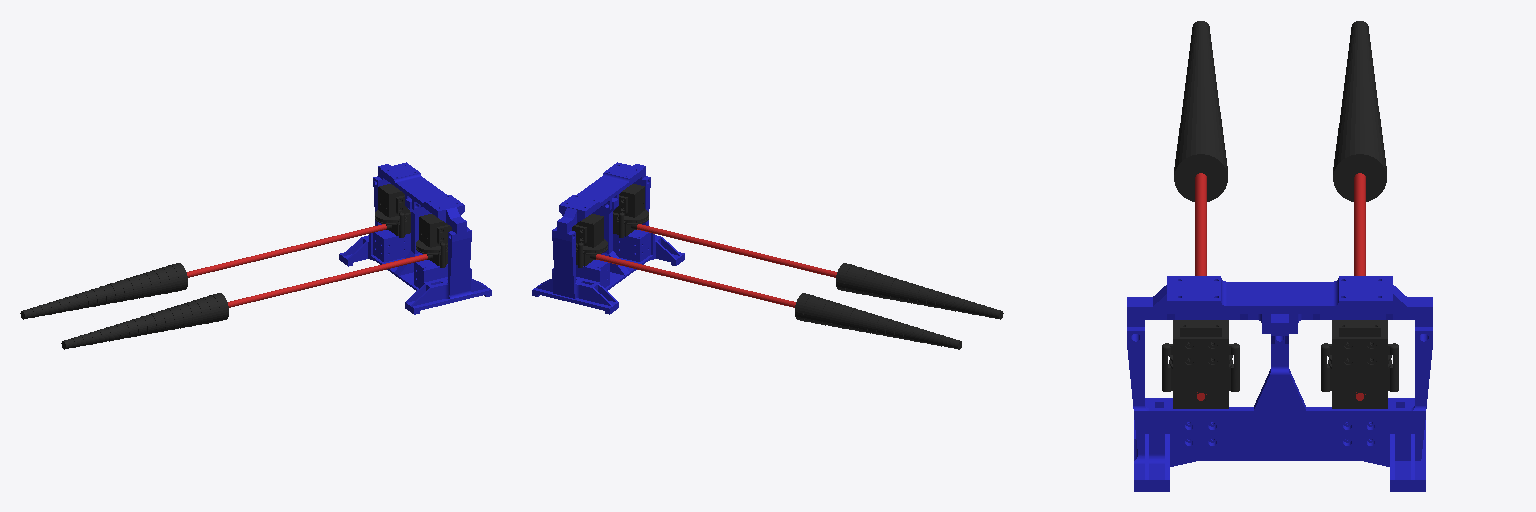
--- Render facts (derived) ---
Views: 3 orthographic renders of the robot side by side, from view 1: azimuth 30°, elevation 25°; view 2: azimuth 150°, elevation 25°; view 3: azimuth 270°, elevation 25°.
Model holybroX500 with 42 links and 41 joints (39 revolute, 2 fixed), rooted at base_link, posed every joint at zero.
Links seen in each view (by area): view 1: fixed_base, rotating_link_right, rotating_link_left, rod_link_right, rod_link_left; view 2: fixed_base, rotating_link_left, rotating_link_right, rod_link_left, rod_link_right; view 3: fixed_base, rotating_link_left, rotating_link_right, flexible_link_right_1, flexible_link_left_1, rod_link_left, rod_link_right.
Boxes of the visible links, x1,y1,x2,y2 form: fixed_base: (339,162,491,314); rotating_link_right: (375,184,410,237); rotating_link_left: (416,214,451,267); rod_link_right: (187,224,386,277); rod_link_left: (228,254,427,307); fixed_base: (532,162,684,314); rotating_link_left: (613,184,648,237); rotating_link_right: (572,214,607,267); rod_link_left: (637,224,836,277); rod_link_right: (596,254,795,307); fixed_base: (1127,276,1432,491); rotating_link_left: (1162,320,1239,408); rotating_link_right: (1321,320,1398,408); flexible_link_right_1: (1333,146,1386,201); flexible_link_left_1: (1174,146,1227,201); rod_link_left: (1195,173,1206,400); rod_link_right: (1354,173,1365,400).
Size in the robot's own frame: 0.6244 by 0.208 by 0.1297 metres.
Meshes: 3 distinct files referenced, 3 mesh visuals loaded (2 binary STL); not drawn: 1 (file found but could not be loaded).

The robot description file, URDF, robot "holybroX500":
<?xml version="1.0" ?>
<!-- =================================================================================== -->
<!-- |    This document was autogenerated by xacro from holybro.xacro                  | -->
<!-- |    EDITING THIS FILE BY HAND IS NOT RECOMMENDED                                 | -->
<!-- =================================================================================== -->
<robot name="holybroX500">
  <link name="rotating_link_left">
    <inertial>
      <mass value="0.1"/>
      <inertia ixx="4.322708e-05" ixy="0" ixz="0" iyy="3.75604e-05" iyz="0" izz="3.03708e-05"/>
    </inertial>
    <collision>
      <geometry>
        <box size="0.0385 0.0465 0.055"/>
      </geometry>
    </collision>
    <visual>
      <geometry>
        <mesh filename="meshes\ArmToLimb.stl"/>
      </geometry>
      <material name="darkgray">
        <color rgba="0.2 0.2 0.2 1"/>
      </material>
    </visual>
  </link>
  <link name="rod_link_left">
    <inertial>
      <origin rpy="0 0 0" xyz="0 0 -0.175"/>
      <mass value="0.01"/>
      <inertia ixx="0.00010212333333333332" ixy="0.0" ixz="0.0" iyy="0.00010212333333333332" iyz="0.0" izz="8e-08"/>
    </inertial>
    <collision>
      <origin rpy="0 0 0" xyz="0 0 -0.175"/>
      <geometry>
        <cylinder length="0.35" radius="0.004"/>
      </geometry>
    </collision>
    <visual>
      <origin rpy="0 0 0" xyz="0 0 -0.175"/>
      <geometry>
        <cylinder length="0.35" radius="0.004"/>
      </geometry>
      <material name="darkred">
        <color rgba="0.8 0.2 0.2 1"/>
      </material>
    </visual>
  </link>
  <joint name="servo_move_left" type="revolute">
    <parent link="fixed_base"/>
    <child link="rotating_link_left"/>
    <origin rpy="0 0 1.5708" xyz="0.0 0.054 -0.084"/>
    <axis xyz="0 0 1"/>
    <limit effort="1000.0" lower="-1.57" upper="1.57" velocity="0.5"/>
    <dynamics damping="0.1" friction="0"/>
  </joint>
  <joint name="rod_joint_left" type="fixed">
    <parent link="rotating_link_left"/>
    <child link="rod_link_left"/>
    <origin rpy="-1.5708 0 0" xyz="0.0 0.015 0.01"/>
    <axis xyz="1 0 0"/>
    <limit effort="1000.0" lower="0.0" upper="0.0" velocity="0.5"/>
    <dynamics damping="0.1" friction="0"/>
  </joint>
  <link name="rotating_link_right">
    <inertial>
      <mass value="0.1"/>
      <inertia ixx="4.322708e-05" ixy="0" ixz="0" iyy="3.75604e-05" iyz="0" izz="3.03708e-05"/>
    </inertial>
    <collision>
      <geometry>
        <box size="0.0385 0.0465 0.055"/>
      </geometry>
    </collision>
    <visual>
      <geometry>
        <mesh filename="meshes\ArmToLimb.stl"/>
      </geometry>
      <material name="darkgray">
        <color rgba="0.2 0.2 0.2 1"/>
      </material>
    </visual>
  </link>
  <link name="rod_link_right">
    <inertial>
      <origin rpy="0 0 0" xyz="0 0 -0.175"/>
      <mass value="0.01"/>
      <inertia ixx="0.00010212333333333332" ixy="0.0" ixz="0.0" iyy="0.00010212333333333332" iyz="0.0" izz="8e-08"/>
    </inertial>
    <collision>
      <origin rpy="0 0 0" xyz="0 0 -0.175"/>
      <geometry>
        <cylinder length="0.35" radius="0.004"/>
      </geometry>
    </collision>
    <visual>
      <origin rpy="0 0 0" xyz="0 0 -0.175"/>
      <geometry>
        <cylinder length="0.35" radius="0.004"/>
      </geometry>
      <material name="darkred">
        <color rgba="0.8 0.2 0.2 1"/>
      </material>
    </visual>
  </link>
  <joint name="servo_move_right" type="revolute">
    <parent link="fixed_base"/>
    <child link="rotating_link_right"/>
    <origin rpy="0 0 1.5708" xyz="0.0 -0.054 -0.084"/>
    <axis xyz="0 0 1"/>
    <limit effort="1000.0" lower="-1.57" upper="1.57" velocity="0.5"/>
    <dynamics damping="0.1" friction="0"/>
  </joint>
  <joint name="rod_joint_right" type="fixed">
    <parent link="rotating_link_right"/>
    <child link="rod_link_right"/>
    <origin rpy="-1.5708 0 0" xyz="0.0 0.015 0.01"/>
    <axis xyz="1 0 0"/>
    <limit effort="1000.0" lower="0.0" upper="0.0" velocity="0.5"/>
    <dynamics damping="0.1" friction="0"/>
  </joint>
  <link name="flexible_link_right_1">
    <inertial>
      <mass value="0.0058823529411764705"/>
      <origin rpy="-1.5707963267948966 0 0" xyz="0 0.0066972222222222225 0"/>
      <inertia ixx="6.18828991164367e-07" ixy="0.0" ixz="0.0" iyy="6.18828991164367e-07" iyz="0.0" izz="1.0617647058823529e-06"/>
    </inertial>
    <collision>
      <origin rpy="-1.5707963267948966 0 0" xyz="0 0.0066972222222222225 0"/>
      <geometry>
        <cylinder length="0.013394444444444445" radius="0.018277777777777778"/>
      </geometry>
    </collision>
    <visual>
      <origin rpy="-1.5707963267948966 0 0" xyz="0 0.0066972222222222225 0"/>
      <geometry>
        <cylinder length="0.013394444444444445" radius="0.018277777777777778"/>
      </geometry>
      <material name="darkgray">
        <color rgba="0.2 0.2 0.2 1"/>
      </material>
    </visual>
  </link>
  <link name="flexible_link_right_18">
    <inertial>
      <mass value="0.0058823529411764705"/>
      <origin rpy="-1.5707963267948966 0 0" xyz="0 0.0066972222222222225 0"/>
      <inertia ixx="1.4088781469377874e-07" ixy="0.0" ixz="0.0" iyy="1.4088781469377874e-07" iyz="0.0" izz="1.0588235294117647e-07"/>
    </inertial>
    <collision>
      <origin rpy="-1.5707963267948966 0 0" xyz="0 0.0066972222222222225 0"/>
      <geometry>
        <cylinder length="0.013394444444444445" radius="0.006"/>
      </geometry>
    </collision>
    <visual>
      <origin rpy="-1.5707963267948966 0 0" xyz="0 0.0066972222222222225 0"/>
      <geometry>
        <cylinder length="0.013394444444444445" radius="0.006"/>
      </geometry>
      <material name="darkgray">
        <color rgba="0.2 0.2 0.2 1"/>
      </material>
    </visual>
  </link>
  <gazebo reference="flex_joint_right_from_17_to_18">
    <implicitSpringDamper>0</implicitSpringDamper>
    <springReference>0</springReference>
    <springStiffness>0.5</springStiffness>
  </gazebo>
  <joint name="flex_joint_right_from_17_to_18" type="revolute">
    <parent link="flexible_link_right_17"/>
    <child link="flexible_link_right_18"/>
    <origin rpy="0 0 0" xyz="0 0.013394444444444445 0"/>
    <axis xyz="0 0 1"/>
    <limit effort="1000.0" lower="-1e+16" upper="1e+16" velocity="0.5"/>
    <dynamics damping="0.1" friction="0"/>
  </joint>
  <link name="flexible_link_right_17">
    <inertial>
      <mass value="0.0058823529411764705"/>
      <origin rpy="-1.5707963267948966 0 0" xyz="0 0.0066972222222222225 0"/>
      <inertia ixx="1.54399978818688e-07" ixy="0.0" ixz="0.0" iyy="1.54399978818688e-07" iyz="0.0" izz="1.3290668119099497e-07"/>
    </inertial>
    <collision>
      <origin rpy="-1.5707963267948966 0 0" xyz="0 0.0066972222222222225 0"/>
      <geometry>
        <cylinder length="0.013394444444444445" radius="0.006722222222222223"/>
      </geometry>
    </collision>
    <visual>
      <origin rpy="-1.5707963267948966 0 0" xyz="0 0.0066972222222222225 0"/>
      <geometry>
        <cylinder length="0.013394444444444445" radius="0.006722222222222223"/>
      </geometry>
      <material name="darkgray">
        <color rgba="0.2 0.2 0.2 1"/>
      </material>
    </visual>
  </link>
  <gazebo reference="flex_joint_right_from_16_to_17">
    <implicitSpringDamper>0</implicitSpringDamper>
    <springReference>0</springReference>
    <springStiffness>0.5</springStiffness>
  </gazebo>
  <joint name="flex_joint_right_from_16_to_17" type="revolute">
    <parent link="flexible_link_right_16"/>
    <child link="flexible_link_right_17"/>
    <origin rpy="0 0 0" xyz="0 0.013394444444444445 0"/>
    <axis xyz="0 0 1"/>
    <limit effort="1000.0" lower="-1e+16" upper="1e+16" velocity="0.5"/>
    <dynamics damping="0.1" friction="0"/>
  </joint>
  <link name="flexible_link_right_16">
    <inertial>
      <mass value="0.0058823529411764705"/>
      <origin rpy="-1.5707963267948966 0 0" xyz="0 0.0066972222222222225 0"/>
      <inertia ixx="1.6944627511498426e-07" ixy="0.0" ixz="0.0" iyy="1.6944627511498426e-07" iyz="0.0" izz="1.629992737835875e-07"/>
    </inertial>
    <collision>
      <origin rpy="-1.5707963267948966 0 0" xyz="0 0.0066972222222222225 0"/>
      <geometry>
        <cylinder length="0.013394444444444445" radius="0.0074444444444444445"/>
      </geometry>
    </collision>
    <visual>
      <origin rpy="-1.5707963267948966 0 0" xyz="0 0.0066972222222222225 0"/>
      <geometry>
        <cylinder length="0.013394444444444445" radius="0.0074444444444444445"/>
      </geometry>
      <material name="darkgray">
        <color rgba="0.2 0.2 0.2 1"/>
      </material>
    </visual>
  </link>
  <gazebo reference="flex_joint_right_from_15_to_16">
    <implicitSpringDamper>0</implicitSpringDamper>
    <springReference>0</springReference>
    <springStiffness>0.5</springStiffness>
  </gazebo>
  <joint name="flex_joint_right_from_15_to_16" type="revolute">
    <parent link="flexible_link_right_15"/>
    <child link="flexible_link_right_16"/>
    <origin rpy="0 0 0" xyz="0 0.013394444444444445 0"/>
    <axis xyz="0 0 1"/>
    <limit effort="1000.0" lower="-1e+16" upper="1e+16" velocity="0.5"/>
    <dynamics damping="0.1" friction="0"/>
  </joint>
  <link name="flexible_link_right_15">
    <inertial>
      <mass value="0.0058823529411764705"/>
      <origin rpy="-1.5707963267948966 0 0" xyz="0 0.0066972222222222225 0"/>
      <inertia ixx="1.8602670358266762e-07" ixy="0.0" ixz="0.0" iyy="1.8602670358266762e-07" iyz="0.0" izz="1.961601307189542e-07"/>
    </inertial>
    <collision>
      <origin rpy="-1.5707963267948966 0 0" xyz="0 0.0066972222222222225 0"/>
      <geometry>
        <cylinder length="0.013394444444444445" radius="0.008166666666666666"/>
      </geometry>
    </collision>
    <visual>
      <origin rpy="-1.5707963267948966 0 0" xyz="0 0.0066972222222222225 0"/>
      <geometry>
        <cylinder length="0.013394444444444445" radius="0.008166666666666666"/>
      </geometry>
      <material name="darkgray">
        <color rgba="0.2 0.2 0.2 1"/>
      </material>
    </visual>
  </link>
  <gazebo reference="flex_joint_right_from_14_to_15">
    <implicitSpringDamper>0</implicitSpringDamper>
    <springReference>0</springReference>
    <springStiffness>0.5</springStiffness>
  </gazebo>
  <joint name="flex_joint_right_from_14_to_15" type="revolute">
    <parent link="flexible_link_right_14"/>
    <child link="flexible_link_right_15"/>
    <origin rpy="0 0 0" xyz="0 0.013394444444444445 0"/>
    <axis xyz="0 0 1"/>
    <limit effort="1000.0" lower="-1e+16" upper="1e+16" velocity="0.5"/>
    <dynamics damping="0.1" friction="0"/>
  </joint>
  <link name="flexible_link_right_14">
    <inertial>
      <mass value="0.0058823529411764705"/>
      <origin rpy="-1.5707963267948966 0 0" xyz="0 0.0066972222222222225 0"/>
      <inertia ixx="2.041412642217381e-07" ixy="0.0" ixz="0.0" iyy="2.041412642217381e-07" iyz="0.0" izz="2.3238925199709512e-07"/>
    </inertial>
    <collision>
      <origin rpy="-1.5707963267948966 0 0" xyz="0 0.0066972222222222225 0"/>
      <geometry>
        <cylinder length="0.013394444444444445" radius="0.008888888888888889"/>
      </geometry>
    </collision>
    <visual>
      <origin rpy="-1.5707963267948966 0 0" xyz="0 0.0066972222222222225 0"/>
      <geometry>
        <cylinder length="0.013394444444444445" radius="0.008888888888888889"/>
      </geometry>
      <material name="darkgray">
        <color rgba="0.2 0.2 0.2 1"/>
      </material>
    </visual>
  </link>
  <gazebo reference="flex_joint_right_from_13_to_14">
    <implicitSpringDamper>0</implicitSpringDamper>
    <springReference>0</springReference>
    <springStiffness>0.5</springStiffness>
  </gazebo>
  <joint name="flex_joint_right_from_13_to_14" type="revolute">
    <parent link="flexible_link_right_13"/>
    <child link="flexible_link_right_14"/>
    <origin rpy="0 0 0" xyz="0 0.013394444444444445 0"/>
    <axis xyz="0 0 1"/>
    <limit effort="1000.0" lower="-1e+16" upper="1e+16" velocity="0.5"/>
    <dynamics damping="0.1" friction="0"/>
  </joint>
  <link name="flexible_link_right_13">
    <inertial>
      <mass value="0.0058823529411764705"/>
      <origin rpy="-1.5707963267948966 0 0" xyz="0 0.0066972222222222225 0"/>
      <inertia ixx="2.2378995703219564e-07" ixy="0.0" ixz="0.0" iyy="2.2378995703219564e-07" iyz="0.0" izz="2.716866376180102e-07"/>
    </inertial>
    <collision>
      <origin rpy="-1.5707963267948966 0 0" xyz="0 0.0066972222222222225 0"/>
      <geometry>
        <cylinder length="0.013394444444444445" radius="0.009611111111111112"/>
      </geometry>
    </collision>
    <visual>
      <origin rpy="-1.5707963267948966 0 0" xyz="0 0.0066972222222222225 0"/>
      <geometry>
        <cylinder length="0.013394444444444445" radius="0.009611111111111112"/>
      </geometry>
      <material name="darkgray">
        <color rgba="0.2 0.2 0.2 1"/>
      </material>
    </visual>
  </link>
  <gazebo reference="flex_joint_right_from_12_to_13">
    <implicitSpringDamper>0</implicitSpringDamper>
    <springReference>0</springReference>
    <springStiffness>0.5</springStiffness>
  </gazebo>
  <joint name="flex_joint_right_from_12_to_13" type="revolute">
    <parent link="flexible_link_right_12"/>
    <child link="flexible_link_right_13"/>
    <origin rpy="0 0 0" xyz="0 0.013394444444444445 0"/>
    <axis xyz="0 0 1"/>
    <limit effort="1000.0" lower="-1e+16" upper="1e+16" velocity="0.5"/>
    <dynamics damping="0.1" friction="0"/>
  </joint>
  <link name="flexible_link_right_12">
    <inertial>
      <mass value="0.0058823529411764705"/>
      <origin rpy="-1.5707963267948966 0 0" xyz="0 0.0066972222222222225 0"/>
      <inertia ixx="2.449727820140402e-07" ixy="0.0" ixz="0.0" iyy="2.449727820140402e-07" iyz="0.0" izz="3.140522875816993e-07"/>
    </inertial>
    <collision>
      <origin rpy="-1.5707963267948966 0 0" xyz="0 0.0066972222222222225 0"/>
      <geometry>
        <cylinder length="0.013394444444444445" radius="0.010333333333333333"/>
      </geometry>
    </collision>
    <visual>
      <origin rpy="-1.5707963267948966 0 0" xyz="0 0.0066972222222222225 0"/>
      <geometry>
        <cylinder length="0.013394444444444445" radius="0.010333333333333333"/>
      </geometry>
      <material name="darkgray">
        <color rgba="0.2 0.2 0.2 1"/>
      </material>
    </visual>
  </link>
  <gazebo reference="flex_joint_right_from_11_to_12">
    <implicitSpringDamper>0</implicitSpringDamper>
    <springReference>0</springReference>
    <springStiffness>0.5</springStiffness>
  </gazebo>
  <joint name="flex_joint_right_from_11_to_12" type="revolute">
    <parent link="flexible_link_right_11"/>
    <child link="flexible_link_right_12"/>
    <origin rpy="0 0 0" xyz="0 0.013394444444444445 0"/>
    <axis xyz="0 0 1"/>
    <limit effort="1000.0" lower="-1e+16" upper="1e+16" velocity="0.5"/>
    <dynamics damping="0.1" friction="0"/>
  </joint>
  <link name="flexible_link_right_11">
    <inertial>
      <mass value="0.0058823529411764705"/>
      <origin rpy="-1.5707963267948966 0 0" xyz="0 0.0066972222222222225 0"/>
      <inertia ixx="2.676897391672718e-07" ixy="0.0" ixz="0.0" iyy="2.676897391672718e-07" iyz="0.0" izz="3.5948620188816257e-07"/>
    </inertial>
    <collision>
      <origin rpy="-1.5707963267948966 0 0" xyz="0 0.0066972222222222225 0"/>
      <geometry>
        <cylinder length="0.013394444444444445" radius="0.011055555555555555"/>
      </geometry>
    </collision>
    <visual>
      <origin rpy="-1.5707963267948966 0 0" xyz="0 0.0066972222222222225 0"/>
      <geometry>
        <cylinder length="0.013394444444444445" radius="0.011055555555555555"/>
      </geometry>
      <material name="darkgray">
        <color rgba="0.2 0.2 0.2 1"/>
      </material>
    </visual>
  </link>
  <gazebo reference="flex_joint_right_from_10_to_11">
    <implicitSpringDamper>0</implicitSpringDamper>
    <springReference>0</springReference>
    <springStiffness>0.5</springStiffness>
  </gazebo>
  <joint name="flex_joint_right_from_10_to_11" type="revolute">
    <parent link="flexible_link_right_10"/>
    <child link="flexible_link_right_11"/>
    <origin rpy="0 0 0" xyz="0 0.013394444444444445 0"/>
    <axis xyz="0 0 1"/>
    <limit effort="1000.0" lower="-1e+16" upper="1e+16" velocity="0.5"/>
    <dynamics damping="0.1" friction="0"/>
  </joint>
  <link name="flexible_link_right_10">
    <inertial>
      <mass value="0.0058823529411764705"/>
      <origin rpy="-1.5707963267948966 0 0" xyz="0 0.0066972222222222225 0"/>
      <inertia ixx="2.919408284918906e-07" ixy="0.0" ixz="0.0" iyy="2.919408284918906e-07" iyz="0.0" izz="4.0798838053740015e-07"/>
    </inertial>
    <collision>
      <origin rpy="-1.5707963267948966 0 0" xyz="0 0.0066972222222222225 0"/>
      <geometry>
        <cylinder length="0.013394444444444445" radius="0.011777777777777778"/>
      </geometry>
    </collision>
    <visual>
      <origin rpy="-1.5707963267948966 0 0" xyz="0 0.0066972222222222225 0"/>
      <geometry>
        <cylinder length="0.013394444444444445" radius="0.011777777777777778"/>
      </geometry>
      <material name="darkgray">
        <color rgba="0.2 0.2 0.2 1"/>
      </material>
    </visual>
  </link>
  <gazebo reference="flex_joint_right_from_9_to_10">
    <implicitSpringDamper>0</implicitSpringDamper>
    <springReference>0</springReference>
    <springStiffness>0.5</springStiffness>
  </gazebo>
  <joint name="flex_joint_right_from_9_to_10" type="revolute">
    <parent link="flexible_link_right_9"/>
    <child link="flexible_link_right_10"/>
    <origin rpy="0 0 0" xyz="0 0.013394444444444445 0"/>
    <axis xyz="0 0 1"/>
    <limit effort="1000.0" lower="-1e+16" upper="1e+16" velocity="0.5"/>
    <dynamics damping="0.1" friction="0"/>
  </joint>
  <link name="flexible_link_right_9">
    <inertial>
      <mass value="0.0058823529411764705"/>
      <origin rpy="-1.5707963267948966 0 0" xyz="0 0.0066972222222222225 0"/>
      <inertia ixx="3.177260499878964e-07" ixy="0.0" ixz="0.0" iyy="3.177260499878964e-07" iyz="0.0" izz="4.5955882352941183e-07"/>
    </inertial>
    <collision>
      <origin rpy="-1.5707963267948966 0 0" xyz="0 0.0066972222222222225 0"/>
      <geometry>
        <cylinder length="0.013394444444444445" radius="0.0125"/>
      </geometry>
    </collision>
    <visual>
      <origin rpy="-1.5707963267948966 0 0" xyz="0 0.0066972222222222225 0"/>
      <geometry>
        <cylinder length="0.013394444444444445" radius="0.0125"/>
      </geometry>
      <material name="darkgray">
        <color rgba="0.2 0.2 0.2 1"/>
      </material>
    </visual>
  </link>
  <gazebo reference="flex_joint_right_from_8_to_9">
    <implicitSpringDamper>0</implicitSpringDamper>
    <springReference>0</springReference>
    <springStiffness>0.5</springStiffness>
  </gazebo>
  <joint name="flex_joint_right_from_8_to_9" type="revolute">
    <parent link="flexible_link_right_8"/>
    <child link="flexible_link_right_9"/>
    <origin rpy="0 0 0" xyz="0 0.013394444444444445 0"/>
    <axis xyz="0 0 1"/>
    <limit effort="1000.0" lower="-1e+16" upper="1e+16" velocity="0.5"/>
    <dynamics damping="0.1" friction="0"/>
  </joint>
  <link name="flexible_link_right_8">
    <inertial>
      <mass value="0.0058823529411764705"/>
      <origin rpy="-1.5707963267948966 0 0" xyz="0 0.0066972222222222225 0"/>
      <inertia ixx="3.450454036552893e-07" ixy="0.0" ixz="0.0" iyy="3.450454036552893e-07" iyz="0.0" izz="5.141975308641976e-07"/>
    </inertial>
    <collision>
      <origin rpy="-1.5707963267948966 0 0" xyz="0 0.0066972222222222225 0"/>
      <geometry>
        <cylinder length="0.013394444444444445" radius="0.013222222222222222"/>
      </geometry>
    </collision>
    <visual>
      <origin rpy="-1.5707963267948966 0 0" xyz="0 0.0066972222222222225 0"/>
      <geometry>
        <cylinder length="0.013394444444444445" radius="0.013222222222222222"/>
      </geometry>
      <material name="darkgray">
        <color rgba="0.2 0.2 0.2 1"/>
      </material>
    </visual>
  </link>
  <gazebo reference="flex_joint_right_from_7_to_8">
    <implicitSpringDamper>0</implicitSpringDamper>
    <springReference>0</springReference>
    <springStiffness>0.5</springStiffness>
  </gazebo>
  <joint name="flex_joint_right_from_7_to_8" type="revolute">
    <parent link="flexible_link_right_7"/>
    <child link="flexible_link_right_8"/>
    <origin rpy="0 0 0" xyz="0 0.013394444444444445 0"/>
    <axis xyz="0 0 1"/>
    <limit effort="1000.0" lower="-1e+16" upper="1e+16" velocity="0.5"/>
    <dynamics damping="0.1" friction="0"/>
  </joint>
  <link name="flexible_link_right_7">
    <inertial>
      <mass value="0.0058823529411764705"/>
      <origin rpy="-1.5707963267948966 0 0" xyz="0 0.0066972222222222225 0"/>
      <inertia ixx="3.7389888949406916e-07" ixy="0.0" ixz="0.0" iyy="3.7389888949406916e-07" iyz="0.0" izz="5.719045025417573e-07"/>
    </inertial>
    <collision>
      <origin rpy="-1.5707963267948966 0 0" xyz="0 0.0066972222222222225 0"/>
      <geometry>
        <cylinder length="0.013394444444444445" radius="0.013944444444444443"/>
      </geometry>
    </collision>
    <visual>
      <origin rpy="-1.5707963267948966 0 0" xyz="0 0.0066972222222222225 0"/>
      <geometry>
        <cylinder length="0.013394444444444445" radius="0.013944444444444443"/>
      </geometry>
      <material name="darkgray">
        <color rgba="0.2 0.2 0.2 1"/>
      </material>
    </visual>
  </link>
  <gazebo reference="flex_joint_right_from_6_to_7">
    <implicitSpringDamper>0</implicitSpringDamper>
    <springReference>0</springReference>
    <springStiffness>0.5</springStiffness>
  </gazebo>
  <joint name="flex_joint_right_from_6_to_7" type="revolute">
    <parent link="flexible_link_right_6"/>
    <child link="flexible_link_right_7"/>
    <origin rpy="0 0 0" xyz="0 0.013394444444444445 0"/>
    <axis xyz="0 0 1"/>
    <limit effort="1000.0" lower="-1e+16" upper="1e+16" velocity="0.5"/>
    <dynamics damping="0.1" friction="0"/>
  </joint>
  <link name="flexible_link_right_6">
    <inertial>
      <mass value="0.0058823529411764705"/>
      <origin rpy="-1.5707963267948966 0 0" xyz="0 0.0066972222222222225 0"/>
      <inertia ixx="4.0428650750423624e-07" ixy="0.0" ixz="0.0" iyy="4.0428650750423624e-07" iyz="0.0" izz="6.326797385620915e-07"/>
    </inertial>
    <collision>
      <origin rpy="-1.5707963267948966 0 0" xyz="0 0.0066972222222222225 0"/>
      <geometry>
        <cylinder length="0.013394444444444445" radius="0.014666666666666666"/>
      </geometry>
    </collision>
    <visual>
      <origin rpy="-1.5707963267948966 0 0" xyz="0 0.0066972222222222225 0"/>
      <geometry>
        <cylinder length="0.013394444444444445" radius="0.014666666666666666"/>
      </geometry>
      <material name="darkgray">
        <color rgba="0.2 0.2 0.2 1"/>
      </material>
    </visual>
  </link>
  <gazebo reference="flex_joint_right_from_5_to_6">
    <implicitSpringDamper>0</implicitSpringDamper>
    <springReference>0</springReference>
    <springStiffness>0.5</springStiffness>
  </gazebo>
  <joint name="flex_joint_right_from_5_to_6" type="revolute">
    <parent link="flexible_link_right_5"/>
    <child link="flexible_link_right_6"/>
    <origin rpy="0 0 0" xyz="0 0.013394444444444445 0"/>
    <axis xyz="0 0 1"/>
    <limit effort="1000.0" lower="-1e+16" upper="1e+16" velocity="0.5"/>
    <dynamics damping="0.1" friction="0"/>
  </joint>
  <link name="flexible_link_right_5">
    <inertial>
      <mass value="0.0058823529411764705"/>
      <origin rpy="-1.5707963267948966 0 0" xyz="0 0.0066972222222222225 0"/>
      <inertia ixx="4.362082576857904e-07" ixy="0.0" ixz="0.0" iyy="4.362082576857904e-07" iyz="0.0" izz="6.965232389251998e-07"/>
    </inertial>
    <collision>
      <origin rpy="-1.5707963267948966 0 0" xyz="0 0.0066972222222222225 0"/>
      <geometry>
        <cylinder length="0.013394444444444445" radius="0.01538888888888889"/>
      </geometry>
    </collision>
    <visual>
      <origin rpy="-1.5707963267948966 0 0" xyz="0 0.0066972222222222225 0"/>
      <geometry>
        <cylinder length="0.013394444444444445" radius="0.01538888888888889"/>
      </geometry>
      <material name="darkgray">
        <color rgba="0.2 0.2 0.2 1"/>
      </material>
    </visual>
  </link>
  <gazebo reference="flex_joint_right_from_4_to_5">
    <implicitSpringDamper>0</implicitSpringDamper>
    <springReference>0</springReference>
    <springStiffness>0.5</springStiffness>
  </gazebo>
  <joint name="flex_joint_right_from_4_to_5" type="revolute">
    <parent link="flexible_link_right_4"/>
    <child link="flexible_link_right_5"/>
    <origin rpy="0 0 0" xyz="0 0.013394444444444445 0"/>
    <axis xyz="0 0 1"/>
    <limit effort="1000.0" lower="-1e+16" upper="1e+16" velocity="0.5"/>
    <dynamics damping="0.1" friction="0"/>
  </joint>
  <link name="flexible_link_right_4">
    <inertial>
      <mass value="0.0058823529411764705"/>
      <origin rpy="-1.5707963267948966 0 0" xyz="0 0.0066972222222222225 0"/>
      <inertia ixx="4.696641400387315e-07" ixy="0.0" ixz="0.0" iyy="4.696641400387315e-07" iyz="0.0" izz="7.63435003631082e-07"/>
    </inertial>
    <collision>
      <origin rpy="-1.5707963267948966 0 0" xyz="0 0.0066972222222222225 0"/>
      <geometry>
        <cylinder length="0.013394444444444445" radius="0.01611111111111111"/>
      </geometry>
    </collision>
    <visual>
      <origin rpy="-1.5707963267948966 0 0" xyz="0 0.0066972222222222225 0"/>
      <geometry>
        <cylinder length="0.013394444444444445" radius="0.01611111111111111"/>
      </geometry>
      <material name="darkgray">
        <color rgba="0.2 0.2 0.2 1"/>
      </material>
    </visual>
  </link>
  <gazebo reference="flex_joint_right_from_3_to_4">
    <implicitSpringDamper>0</implicitSpringDamper>
    <springReference>0</springReference>
    <springStiffness>0.5</springStiffness>
  </gazebo>
  <joint name="flex_joint_right_from_3_to_4" type="revolute">
    <parent link="flexible_link_right_3"/>
    <child link="flexible_link_right_4"/>
    <origin rpy="0 0 0" xyz="0 0.013394444444444445 0"/>
    <axis xyz="0 0 1"/>
    <limit effort="1000.0" lower="-1e+16" upper="1e+16" velocity="0.5"/>
    <dynamics damping="0.1" friction="0"/>
  </joint>
  <link name="flexible_link_right_3">
    <inertial>
      <mass value="0.0058823529411764705"/>
      <origin rpy="-1.5707963267948966 0 0" xyz="0 0.0066972222222222225 0"/>
      <inertia ixx="5.046541545630597e-07" ixy="0.0" ixz="0.0" iyy="5.046541545630597e-07" iyz="0.0" izz="8.334150326797384e-07"/>
    </inertial>
    <collision>
      <origin rpy="-1.5707963267948966 0 0" xyz="0 0.0066972222222222225 0"/>
      <geometry>
        <cylinder length="0.013394444444444445" radius="0.016833333333333332"/>
      </geometry>
    </collision>
    <visual>
      <origin rpy="-1.5707963267948966 0 0" xyz="0 0.0066972222222222225 0"/>
      <geometry>
        <cylinder length="0.013394444444444445" radius="0.016833333333333332"/>
      </geometry>
      <material name="darkgray">
        <color rgba="0.2 0.2 0.2 1"/>
      </material>
    </visual>
  </link>
  <gazebo reference="flex_joint_right_from_2_to_3">
    <implicitSpringDamper>0</implicitSpringDamper>
    <springReference>0</springReference>
    <springStiffness>0.5</springStiffness>
  </gazebo>
  <joint name="flex_joint_right_from_2_to_3" type="revolute">
    <parent link="flexible_link_right_2"/>
    <child link="flexible_link_right_3"/>
    <origin rpy="0 0 0" xyz="0 0.013394444444444445 0"/>
    <axis xyz="0 0 1"/>
    <limit effort="1000.0" lower="-1e+16" upper="1e+16" velocity="0.5"/>
    <dynamics damping="0.1" friction="0"/>
  </joint>
  <link name="flexible_link_right_2">
    <inertial>
      <mass value="0.0058823529411764705"/>
      <origin rpy="-1.5707963267948966 0 0" xyz="0 0.0066972222222222225 0"/>
      <inertia ixx="5.41178301258775e-07" ixy="0.0" ixz="0.0" iyy="5.41178301258775e-07" iyz="0.0" izz="9.06463326071169e-07"/>
    </inertial>
    <collision>
      <origin rpy="-1.5707963267948966 0 0" xyz="0 0.0066972222222222225 0"/>
      <geometry>
        <cylinder length="0.013394444444444445" radius="0.017555555555555553"/>
      </geometry>
    </collision>
    <visual>
      <origin rpy="-1.5707963267948966 0 0" xyz="0 0.0066972222222222225 0"/>
      <geometry>
        <cylinder length="0.013394444444444445" radius="0.017555555555555553"/>
      </geometry>
      <material name="darkgray">
        <color rgba="0.2 0.2 0.2 1"/>
      </material>
    </visual>
  </link>
  <gazebo reference="flex_joint_right_from_1_to_2">
    <implicitSpringDamper>0</implicitSpringDamper>
    <springReference>0</springReference>
    <springStiffness>0.5</springStiffness>
  </gazebo>
  <joint name="flex_joint_right_from_1_to_2" type="revolute">
    <parent link="flexible_link_right_1"/>
    <child link="flexible_link_right_2"/>
    <origin rpy="0 0 0" xyz="0 0.013394444444444445 0"/>
    <axis xyz="0 0 1"/>
    <limit effort="1000.0" lower="-1e+16" upper="1e+16" velocity="0.5"/>
    <dynamics damping="0.1" friction="0"/>
  </joint>
  <link name="flexible_link_left_1">
    <inertial>
      <mass value="0.0058823529411764705"/>
      <origin rpy="-1.5707963267948966 0 0" xyz="0 0.0066972222222222225 0"/>
      <inertia ixx="6.18828991164367e-07" ixy="0.0" ixz="0.0" iyy="6.18828991164367e-07" iyz="0.0" izz="1.0617647058823529e-06"/>
    </inertial>
    <collision>
      <origin rpy="-1.5707963267948966 0 0" xyz="0 0.0066972222222222225 0"/>
      <geometry>
        <cylinder length="0.013394444444444445" radius="0.018277777777777778"/>
      </geometry>
    </collision>
    <visual>
      <origin rpy="-1.5707963267948966 0 0" xyz="0 0.0066972222222222225 0"/>
      <geometry>
        <cylinder length="0.013394444444444445" radius="0.018277777777777778"/>
      </geometry>
      <material name="darkgray">
        <color rgba="0.2 0.2 0.2 1"/>
      </material>
    </visual>
  </link>
  <link name="flexible_link_left_18">
    <inertial>
      <mass value="0.0058823529411764705"/>
      <origin rpy="-1.5707963267948966 0 0" xyz="0 0.0066972222222222225 0"/>
      <inertia ixx="1.4088781469377874e-07" ixy="0.0" ixz="0.0" iyy="1.4088781469377874e-07" iyz="0.0" izz="1.0588235294117647e-07"/>
    </inertial>
    <collision>
      <origin rpy="-1.5707963267948966 0 0" xyz="0 0.0066972222222222225 0"/>
      <geometry>
        <cylinder length="0.013394444444444445" radius="0.006"/>
      </geometry>
    </collision>
    <visual>
      <origin rpy="-1.5707963267948966 0 0" xyz="0 0.0066972222222222225 0"/>
      <geometry>
        <cylinder length="0.013394444444444445" radius="0.006"/>
      </geometry>
      <material name="darkgray">
        <color rgba="0.2 0.2 0.2 1"/>
      </material>
    </visual>
  </link>
  <gazebo reference="flex_joint_left_from_17_to_18">
    <implicitSpringDamper>0</implicitSpringDamper>
    <springReference>0</springReference>
    <springStiffness>0.5</springStiffness>
  </gazebo>
  <joint name="flex_joint_left_from_17_to_18" type="revolute">
    <parent link="flexible_link_left_17"/>
    <child link="flexible_link_left_18"/>
    <origin rpy="0 0 0" xyz="0 0.013394444444444445 0"/>
    <axis xyz="0 0 1"/>
    <limit effort="1000.0" lower="-1e+16" upper="1e+16" velocity="0.5"/>
    <dynamics damping="0.1" friction="0"/>
  </joint>
  <link name="flexible_link_left_17">
    <inertial>
      <mass value="0.0058823529411764705"/>
      <origin rpy="-1.5707963267948966 0 0" xyz="0 0.0066972222222222225 0"/>
      <inertia ixx="1.54399978818688e-07" ixy="0.0" ixz="0.0" iyy="1.54399978818688e-07" iyz="0.0" izz="1.3290668119099497e-07"/>
    </inertial>
    <collision>
      <origin rpy="-1.5707963267948966 0 0" xyz="0 0.0066972222222222225 0"/>
      <geometry>
        <cylinder length="0.013394444444444445" radius="0.006722222222222223"/>
      </geometry>
    </collision>
    <visual>
      <origin rpy="-1.5707963267948966 0 0" xyz="0 0.0066972222222222225 0"/>
      <geometry>
        <cylinder length="0.013394444444444445" radius="0.006722222222222223"/>
      </geometry>
      <material name="darkgray">
        <color rgba="0.2 0.2 0.2 1"/>
      </material>
    </visual>
  </link>
  <gazebo reference="flex_joint_left_from_16_to_17">
    <implicitSpringDamper>0</implicitSpringDamper>
    <springReference>0</springReference>
    <springStiffness>0.5</springStiffness>
  </gazebo>
  <joint name="flex_joint_left_from_16_to_17" type="revolute">
    <parent link="flexible_link_left_16"/>
    <child link="flexible_link_left_17"/>
    <origin rpy="0 0 0" xyz="0 0.013394444444444445 0"/>
    <axis xyz="0 0 1"/>
    <limit effort="1000.0" lower="-1e+16" upper="1e+16" velocity="0.5"/>
    <dynamics damping="0.1" friction="0"/>
  </joint>
  <link name="flexible_link_left_16">
    <inertial>
      <mass value="0.0058823529411764705"/>
      <origin rpy="-1.5707963267948966 0 0" xyz="0 0.0066972222222222225 0"/>
      <inertia ixx="1.6944627511498426e-07" ixy="0.0" ixz="0.0" iyy="1.6944627511498426e-07" iyz="0.0" izz="1.629992737835875e-07"/>
    </inertial>
    <collision>
      <origin rpy="-1.5707963267948966 0 0" xyz="0 0.0066972222222222225 0"/>
      <geometry>
        <cylinder length="0.013394444444444445" radius="0.0074444444444444445"/>
      </geometry>
    </collision>
    <visual>
      <origin rpy="-1.5707963267948966 0 0" xyz="0 0.0066972222222222225 0"/>
      <geometry>
        <cylinder length="0.013394444444444445" radius="0.0074444444444444445"/>
      </geometry>
      <material name="darkgray">
        <color rgba="0.2 0.2 0.2 1"/>
      </material>
    </visual>
  </link>
  <gazebo reference="flex_joint_left_from_15_to_16">
    <implicitSpringDamper>0</implicitSpringDamper>
    <springReference>0</springReference>
    <springStiffness>0.5</springStiffness>
  </gazebo>
  <joint name="flex_joint_left_from_15_to_16" type="revolute">
    <parent link="flexible_link_left_15"/>
    <child link="flexible_link_left_16"/>
    <origin rpy="0 0 0" xyz="0 0.013394444444444445 0"/>
    <axis xyz="0 0 1"/>
    <limit effort="1000.0" lower="-1e+16" upper="1e+16" velocity="0.5"/>
    <dynamics damping="0.1" friction="0"/>
  </joint>
  <link name="flexible_link_left_15">
    <inertial>
      <mass value="0.0058823529411764705"/>
      <origin rpy="-1.5707963267948966 0 0" xyz="0 0.0066972222222222225 0"/>
      <inertia ixx="1.8602670358266762e-07" ixy="0.0" ixz="0.0" iyy="1.8602670358266762e-07" iyz="0.0" izz="1.961601307189542e-07"/>
    </inertial>
    <collision>
      <origin rpy="-1.5707963267948966 0 0" xyz="0 0.0066972222222222225 0"/>
      <geometry>
        <cylinder length="0.013394444444444445" radius="0.008166666666666666"/>
      </geometry>
    </collision>
    <visual>
      <origin rpy="-1.5707963267948966 0 0" xyz="0 0.0066972222222222225 0"/>
      <geometry>
        <cylinder length="0.013394444444444445" radius="0.008166666666666666"/>
      </geometry>
      <material name="darkgray">
        <color rgba="0.2 0.2 0.2 1"/>
      </material>
    </visual>
  </link>
  <gazebo reference="flex_joint_left_from_14_to_15">
    <implicitSpringDamper>0</implicitSpringDamper>
    <springReference>0</springReference>
    <springStiffness>0.5</springStiffness>
  </gazebo>
  <joint name="flex_joint_left_from_14_to_15" type="revolute">
    <parent link="flexible_link_left_14"/>
    <child link="flexible_link_left_15"/>
    <origin rpy="0 0 0" xyz="0 0.013394444444444445 0"/>
    <axis xyz="0 0 1"/>
    <limit effort="1000.0" lower="-1e+16" upper="1e+16" velocity="0.5"/>
    <dynamics damping="0.1" friction="0"/>
  </joint>
  <link name="flexible_link_left_14">
    <inertial>
      <mass value="0.0058823529411764705"/>
      <origin rpy="-1.5707963267948966 0 0" xyz="0 0.0066972222222222225 0"/>
      <inertia ixx="2.041412642217381e-07" ixy="0.0" ixz="0.0" iyy="2.041412642217381e-07" iyz="0.0" izz="2.3238925199709512e-07"/>
    </inertial>
    <collision>
      <origin rpy="-1.5707963267948966 0 0" xyz="0 0.0066972222222222225 0"/>
      <geometry>
        <cylinder length="0.013394444444444445" radius="0.008888888888888889"/>
      </geometry>
    </collision>
    <visual>
      <origin rpy="-1.5707963267948966 0 0" xyz="0 0.0066972222222222225 0"/>
      <geometry>
        <cylinder length="0.013394444444444445" radius="0.008888888888888889"/>
      </geometry>
      <material name="darkgray">
        <color rgba="0.2 0.2 0.2 1"/>
      </material>
    </visual>
  </link>
  <gazebo reference="flex_joint_left_from_13_to_14">
    <implicitSpringDamper>0</implicitSpringDamper>
    <springReference>0</springReference>
    <springStiffness>0.5</springStiffness>
  </gazebo>
  <joint name="flex_joint_left_from_13_to_14" type="revolute">
    <parent link="flexible_link_left_13"/>
    <child link="flexible_link_left_14"/>
    <origin rpy="0 0 0" xyz="0 0.013394444444444445 0"/>
    <axis xyz="0 0 1"/>
    <limit effort="1000.0" lower="-1e+16" upper="1e+16" velocity="0.5"/>
    <dynamics damping="0.1" friction="0"/>
  </joint>
  <link name="flexible_link_left_13">
    <inertial>
      <mass value="0.0058823529411764705"/>
      <origin rpy="-1.5707963267948966 0 0" xyz="0 0.0066972222222222225 0"/>
      <inertia ixx="2.2378995703219564e-07" ixy="0.0" ixz="0.0" iyy="2.2378995703219564e-07" iyz="0.0" izz="2.716866376180102e-07"/>
    </inertial>
    <collision>
      <origin rpy="-1.5707963267948966 0 0" xyz="0 0.0066972222222222225 0"/>
      <geometry>
        <cylinder length="0.013394444444444445" radius="0.009611111111111112"/>
      </geometry>
    </collision>
    <visual>
      <origin rpy="-1.5707963267948966 0 0" xyz="0 0.0066972222222222225 0"/>
      <geometry>
        <cylinder length="0.013394444444444445" radius="0.009611111111111112"/>
      </geometry>
      <material name="darkgray">
        <color rgba="0.2 0.2 0.2 1"/>
      </material>
    </visual>
  </link>
  <gazebo reference="flex_joint_left_from_12_to_13">
    <implicitSpringDamper>0</implicitSpringDamper>
    <springReference>0</springReference>
    <springStiffness>0.5</springStiffness>
  </gazebo>
  <joint name="flex_joint_left_from_12_to_13" type="revolute">
    <parent link="flexible_link_left_12"/>
    <child link="flexible_link_left_13"/>
    <origin rpy="0 0 0" xyz="0 0.013394444444444445 0"/>
    <axis xyz="0 0 1"/>
    <limit effort="1000.0" lower="-1e+16" upper="1e+16" velocity="0.5"/>
    <dynamics damping="0.1" friction="0"/>
  </joint>
  <link name="flexible_link_left_12">
    <inertial>
      <mass value="0.0058823529411764705"/>
      <origin rpy="-1.5707963267948966 0 0" xyz="0 0.0066972222222222225 0"/>
      <inertia ixx="2.449727820140402e-07" ixy="0.0" ixz="0.0" iyy="2.449727820140402e-07" iyz="0.0" izz="3.140522875816993e-07"/>
    </inertial>
    <collision>
      <origin rpy="-1.5707963267948966 0 0" xyz="0 0.0066972222222222225 0"/>
      <geometry>
        <cylinder length="0.013394444444444445" radius="0.010333333333333333"/>
      </geometry>
    </collision>
    <visual>
      <origin rpy="-1.5707963267948966 0 0" xyz="0 0.0066972222222222225 0"/>
      <geometry>
        <cylinder length="0.013394444444444445" radius="0.010333333333333333"/>
      </geometry>
      <material name="darkgray">
        <color rgba="0.2 0.2 0.2 1"/>
      </material>
    </visual>
  </link>
  <gazebo reference="flex_joint_left_from_11_to_12">
    <implicitSpringDamper>0</implicitSpringDamper>
    <springReference>0</springReference>
    <springStiffness>0.5</springStiffness>
  </gazebo>
  <joint name="flex_joint_left_from_11_to_12" type="revolute">
    <parent link="flexible_link_left_11"/>
    <child link="flexible_link_left_12"/>
    <origin rpy="0 0 0" xyz="0 0.013394444444444445 0"/>
    <axis xyz="0 0 1"/>
    <limit effort="1000.0" lower="-1e+16" upper="1e+16" velocity="0.5"/>
    <dynamics damping="0.1" friction="0"/>
  </joint>
  <link name="flexible_link_left_11">
    <inertial>
      <mass value="0.0058823529411764705"/>
      <origin rpy="-1.5707963267948966 0 0" xyz="0 0.0066972222222222225 0"/>
      <inertia ixx="2.676897391672718e-07" ixy="0.0" ixz="0.0" iyy="2.676897391672718e-07" iyz="0.0" izz="3.5948620188816257e-07"/>
    </inertial>
    <collision>
      <origin rpy="-1.5707963267948966 0 0" xyz="0 0.0066972222222222225 0"/>
      <geometry>
        <cylinder length="0.013394444444444445" radius="0.011055555555555555"/>
      </geometry>
    </collision>
    <visual>
      <origin rpy="-1.5707963267948966 0 0" xyz="0 0.0066972222222222225 0"/>
      <geometry>
        <cylinder length="0.013394444444444445" radius="0.011055555555555555"/>
      </geometry>
      <material name="darkgray">
        <color rgba="0.2 0.2 0.2 1"/>
      </material>
    </visual>
  </link>
  <gazebo reference="flex_joint_left_from_10_to_11">
    <implicitSpringDamper>0</implicitSpringDamper>
    <springReference>0</springReference>
    <springStiffness>0.5</springStiffness>
  </gazebo>
  <joint name="flex_joint_left_from_10_to_11" type="revolute">
    <parent link="flexible_link_left_10"/>
    <child link="flexible_link_left_11"/>
    <origin rpy="0 0 0" xyz="0 0.013394444444444445 0"/>
    <axis xyz="0 0 1"/>
    <limit effort="1000.0" lower="-1e+16" upper="1e+16" velocity="0.5"/>
    <dynamics damping="0.1" friction="0"/>
  </joint>
  <link name="flexible_link_left_10">
    <inertial>
      <mass value="0.0058823529411764705"/>
      <origin rpy="-1.5707963267948966 0 0" xyz="0 0.0066972222222222225 0"/>
      <inertia ixx="2.919408284918906e-07" ixy="0.0" ixz="0.0" iyy="2.919408284918906e-07" iyz="0.0" izz="4.0798838053740015e-07"/>
    </inertial>
    <collision>
      <origin rpy="-1.5707963267948966 0 0" xyz="0 0.0066972222222222225 0"/>
      <geometry>
        <cylinder length="0.013394444444444445" radius="0.011777777777777778"/>
      </geometry>
    </collision>
    <visual>
      <origin rpy="-1.5707963267948966 0 0" xyz="0 0.0066972222222222225 0"/>
      <geometry>
        <cylinder length="0.013394444444444445" radius="0.011777777777777778"/>
      </geometry>
      <material name="darkgray">
        <color rgba="0.2 0.2 0.2 1"/>
      </material>
    </visual>
  </link>
  <gazebo reference="flex_joint_left_from_9_to_10">
    <implicitSpringDamper>0</implicitSpringDamper>
    <springReference>0</springReference>
    <springStiffness>0.5</springStiffness>
  </gazebo>
  <joint name="flex_joint_left_from_9_to_10" type="revolute">
    <parent link="flexible_link_left_9"/>
    <child link="flexible_link_left_10"/>
    <origin rpy="0 0 0" xyz="0 0.013394444444444445 0"/>
    <axis xyz="0 0 1"/>
    <limit effort="1000.0" lower="-1e+16" upper="1e+16" velocity="0.5"/>
    <dynamics damping="0.1" friction="0"/>
  </joint>
  <link name="flexible_link_left_9">
    <inertial>
      <mass value="0.0058823529411764705"/>
      <origin rpy="-1.5707963267948966 0 0" xyz="0 0.0066972222222222225 0"/>
      <inertia ixx="3.177260499878964e-07" ixy="0.0" ixz="0.0" iyy="3.177260499878964e-07" iyz="0.0" izz="4.5955882352941183e-07"/>
    </inertial>
    <collision>
      <origin rpy="-1.5707963267948966 0 0" xyz="0 0.0066972222222222225 0"/>
      <geometry>
        <cylinder length="0.013394444444444445" radius="0.0125"/>
      </geometry>
    </collision>
    <visual>
      <origin rpy="-1.5707963267948966 0 0" xyz="0 0.0066972222222222225 0"/>
      <geometry>
        <cylinder length="0.013394444444444445" radius="0.0125"/>
      </geometry>
      <material name="darkgray">
        <color rgba="0.2 0.2 0.2 1"/>
      </material>
    </visual>
  </link>
  <gazebo reference="flex_joint_left_from_8_to_9">
    <implicitSpringDamper>0</implicitSpringDamper>
    <springReference>0</springReference>
    <springStiffness>0.5</springStiffness>
  </gazebo>
  <joint name="flex_joint_left_from_8_to_9" type="revolute">
    <parent link="flexible_link_left_8"/>
    <child link="flexible_link_left_9"/>
    <origin rpy="0 0 0" xyz="0 0.013394444444444445 0"/>
    <axis xyz="0 0 1"/>
    <limit effort="1000.0" lower="-1e+16" upper="1e+16" velocity="0.5"/>
    <dynamics damping="0.1" friction="0"/>
  </joint>
  <link name="flexible_link_left_8">
    <inertial>
      <mass value="0.0058823529411764705"/>
      <origin rpy="-1.5707963267948966 0 0" xyz="0 0.0066972222222222225 0"/>
      <inertia ixx="3.450454036552893e-07" ixy="0.0" ixz="0.0" iyy="3.450454036552893e-07" iyz="0.0" izz="5.141975308641976e-07"/>
    </inertial>
    <collision>
      <origin rpy="-1.5707963267948966 0 0" xyz="0 0.0066972222222222225 0"/>
      <geometry>
        <cylinder length="0.013394444444444445" radius="0.013222222222222222"/>
      </geometry>
    </collision>
    <visual>
      <origin rpy="-1.5707963267948966 0 0" xyz="0 0.0066972222222222225 0"/>
      <geometry>
        <cylinder length="0.013394444444444445" radius="0.013222222222222222"/>
      </geometry>
      <material name="darkgray">
        <color rgba="0.2 0.2 0.2 1"/>
      </material>
    </visual>
  </link>
  <gazebo reference="flex_joint_left_from_7_to_8">
    <implicitSpringDamper>0</implicitSpringDamper>
    <springReference>0</springReference>
    <springStiffness>0.5</springStiffness>
  </gazebo>
  <joint name="flex_joint_left_from_7_to_8" type="revolute">
    <parent link="flexible_link_left_7"/>
    <child link="flexible_link_left_8"/>
    <origin rpy="0 0 0" xyz="0 0.013394444444444445 0"/>
    <axis xyz="0 0 1"/>
    <limit effort="1000.0" lower="-1e+16" upper="1e+16" velocity="0.5"/>
    <dynamics damping="0.1" friction="0"/>
  </joint>
  <link name="flexible_link_left_7">
    <inertial>
      <mass value="0.0058823529411764705"/>
      <origin rpy="-1.5707963267948966 0 0" xyz="0 0.0066972222222222225 0"/>
      <inertia ixx="3.7389888949406916e-07" ixy="0.0" ixz="0.0" iyy="3.7389888949406916e-07" iyz="0.0" izz="5.719045025417573e-07"/>
    </inertial>
    <collision>
      <origin rpy="-1.5707963267948966 0 0" xyz="0 0.0066972222222222225 0"/>
      <geometry>
        <cylinder length="0.013394444444444445" radius="0.013944444444444443"/>
      </geometry>
    </collision>
    <visual>
      <origin rpy="-1.5707963267948966 0 0" xyz="0 0.0066972222222222225 0"/>
      <geometry>
        <cylinder length="0.013394444444444445" radius="0.013944444444444443"/>
      </geometry>
      <material name="darkgray">
        <color rgba="0.2 0.2 0.2 1"/>
      </material>
    </visual>
  </link>
  <gazebo reference="flex_joint_left_from_6_to_7">
    <implicitSpringDamper>0</implicitSpringDamper>
    <springReference>0</springReference>
    <springStiffness>0.5</springStiffness>
  </gazebo>
  <joint name="flex_joint_left_from_6_to_7" type="revolute">
    <parent link="flexible_link_left_6"/>
    <child link="flexible_link_left_7"/>
    <origin rpy="0 0 0" xyz="0 0.013394444444444445 0"/>
    <axis xyz="0 0 1"/>
    <limit effort="1000.0" lower="-1e+16" upper="1e+16" velocity="0.5"/>
    <dynamics damping="0.1" friction="0"/>
  </joint>
  <link name="flexible_link_left_6">
    <inertial>
      <mass value="0.0058823529411764705"/>
      <origin rpy="-1.5707963267948966 0 0" xyz="0 0.0066972222222222225 0"/>
      <inertia ixx="4.0428650750423624e-07" ixy="0.0" ixz="0.0" iyy="4.0428650750423624e-07" iyz="0.0" izz="6.326797385620915e-07"/>
    </inertial>
    <collision>
      <origin rpy="-1.5707963267948966 0 0" xyz="0 0.0066972222222222225 0"/>
      <geometry>
        <cylinder length="0.013394444444444445" radius="0.014666666666666666"/>
      </geometry>
    </collision>
    <visual>
      <origin rpy="-1.5707963267948966 0 0" xyz="0 0.0066972222222222225 0"/>
      <geometry>
        <cylinder length="0.013394444444444445" radius="0.014666666666666666"/>
      </geometry>
      <material name="darkgray">
        <color rgba="0.2 0.2 0.2 1"/>
      </material>
    </visual>
  </link>
  <gazebo reference="flex_joint_left_from_5_to_6">
    <implicitSpringDamper>0</implicitSpringDamper>
    <springReference>0</springReference>
    <springStiffness>0.5</springStiffness>
  </gazebo>
  <joint name="flex_joint_left_from_5_to_6" type="revolute">
    <parent link="flexible_link_left_5"/>
    <child link="flexible_link_left_6"/>
    <origin rpy="0 0 0" xyz="0 0.013394444444444445 0"/>
    <axis xyz="0 0 1"/>
    <limit effort="1000.0" lower="-1e+16" upper="1e+16" velocity="0.5"/>
    <dynamics damping="0.1" friction="0"/>
  </joint>
  <link name="flexible_link_left_5">
    <inertial>
      <mass value="0.0058823529411764705"/>
      <origin rpy="-1.5707963267948966 0 0" xyz="0 0.0066972222222222225 0"/>
      <inertia ixx="4.362082576857904e-07" ixy="0.0" ixz="0.0" iyy="4.362082576857904e-07" iyz="0.0" izz="6.965232389251998e-07"/>
    </inertial>
    <collision>
      <origin rpy="-1.5707963267948966 0 0" xyz="0 0.0066972222222222225 0"/>
      <geometry>
        <cylinder length="0.013394444444444445" radius="0.01538888888888889"/>
      </geometry>
    </collision>
    <visual>
      <origin rpy="-1.5707963267948966 0 0" xyz="0 0.0066972222222222225 0"/>
      <geometry>
        <cylinder length="0.013394444444444445" radius="0.01538888888888889"/>
      </geometry>
      <material name="darkgray">
        <color rgba="0.2 0.2 0.2 1"/>
      </material>
    </visual>
  </link>
  <gazebo reference="flex_joint_left_from_4_to_5">
    <implicitSpringDamper>0</implicitSpringDamper>
    <springReference>0</springReference>
    <springStiffness>0.5</springStiffness>
  </gazebo>
  <joint name="flex_joint_left_from_4_to_5" type="revolute">
    <parent link="flexible_link_left_4"/>
    <child link="flexible_link_left_5"/>
    <origin rpy="0 0 0" xyz="0 0.013394444444444445 0"/>
    <axis xyz="0 0 1"/>
    <limit effort="1000.0" lower="-1e+16" upper="1e+16" velocity="0.5"/>
    <dynamics damping="0.1" friction="0"/>
  </joint>
  <link name="flexible_link_left_4">
    <inertial>
      <mass value="0.0058823529411764705"/>
      <origin rpy="-1.5707963267948966 0 0" xyz="0 0.0066972222222222225 0"/>
      <inertia ixx="4.696641400387315e-07" ixy="0.0" ixz="0.0" iyy="4.696641400387315e-07" iyz="0.0" izz="7.63435003631082e-07"/>
    </inertial>
    <collision>
      <origin rpy="-1.5707963267948966 0 0" xyz="0 0.0066972222222222225 0"/>
      <geometry>
        <cylinder length="0.013394444444444445" radius="0.01611111111111111"/>
      </geometry>
    </collision>
    <visual>
      <origin rpy="-1.5707963267948966 0 0" xyz="0 0.0066972222222222225 0"/>
      <geometry>
        <cylinder length="0.013394444444444445" radius="0.01611111111111111"/>
      </geometry>
      <material name="darkgray">
        <color rgba="0.2 0.2 0.2 1"/>
      </material>
    </visual>
  </link>
  <gazebo reference="flex_joint_left_from_3_to_4">
    <implicitSpringDamper>0</implicitSpringDamper>
    <springReference>0</springReference>
    <springStiffness>0.5</springStiffness>
  </gazebo>
  <joint name="flex_joint_left_from_3_to_4" type="revolute">
    <parent link="flexible_link_left_3"/>
    <child link="flexible_link_left_4"/>
    <origin rpy="0 0 0" xyz="0 0.013394444444444445 0"/>
    <axis xyz="0 0 1"/>
    <limit effort="1000.0" lower="-1e+16" upper="1e+16" velocity="0.5"/>
    <dynamics damping="0.1" friction="0"/>
  </joint>
  <link name="flexible_link_left_3">
    <inertial>
      <mass value="0.0058823529411764705"/>
      <origin rpy="-1.5707963267948966 0 0" xyz="0 0.0066972222222222225 0"/>
      <inertia ixx="5.046541545630597e-07" ixy="0.0" ixz="0.0" iyy="5.046541545630597e-07" iyz="0.0" izz="8.334150326797384e-07"/>
    </inertial>
    <collision>
      <origin rpy="-1.5707963267948966 0 0" xyz="0 0.0066972222222222225 0"/>
      <geometry>
        <cylinder length="0.013394444444444445" radius="0.016833333333333332"/>
      </geometry>
    </collision>
    <visual>
      <origin rpy="-1.5707963267948966 0 0" xyz="0 0.0066972222222222225 0"/>
      <geometry>
        <cylinder length="0.013394444444444445" radius="0.016833333333333332"/>
      </geometry>
      <material name="darkgray">
        <color rgba="0.2 0.2 0.2 1"/>
      </material>
    </visual>
  </link>
  <gazebo reference="flex_joint_left_from_2_to_3">
    <implicitSpringDamper>0</implicitSpringDamper>
    <springReference>0</springReference>
    <springStiffness>0.5</springStiffness>
  </gazebo>
  <joint name="flex_joint_left_from_2_to_3" type="revolute">
    <parent link="flexible_link_left_2"/>
    <child link="flexible_link_left_3"/>
    <origin rpy="0 0 0" xyz="0 0.013394444444444445 0"/>
    <axis xyz="0 0 1"/>
    <limit effort="1000.0" lower="-1e+16" upper="1e+16" velocity="0.5"/>
    <dynamics damping="0.1" friction="0"/>
  </joint>
  <link name="flexible_link_left_2">
    <inertial>
      <mass value="0.0058823529411764705"/>
      <origin rpy="-1.5707963267948966 0 0" xyz="0 0.0066972222222222225 0"/>
      <inertia ixx="5.41178301258775e-07" ixy="0.0" ixz="0.0" iyy="5.41178301258775e-07" iyz="0.0" izz="9.06463326071169e-07"/>
    </inertial>
    <collision>
      <origin rpy="-1.5707963267948966 0 0" xyz="0 0.0066972222222222225 0"/>
      <geometry>
        <cylinder length="0.013394444444444445" radius="0.017555555555555553"/>
      </geometry>
    </collision>
    <visual>
      <origin rpy="-1.5707963267948966 0 0" xyz="0 0.0066972222222222225 0"/>
      <geometry>
        <cylinder length="0.013394444444444445" radius="0.017555555555555553"/>
      </geometry>
      <material name="darkgray">
        <color rgba="0.2 0.2 0.2 1"/>
      </material>
    </visual>
  </link>
  <gazebo reference="flex_joint_left_from_1_to_2">
    <implicitSpringDamper>0</implicitSpringDamper>
    <springReference>0</springReference>
    <springStiffness>0.5</springStiffness>
  </gazebo>
  <joint name="flex_joint_left_from_1_to_2" type="revolute">
    <parent link="flexible_link_left_1"/>
    <child link="flexible_link_left_2"/>
    <origin rpy="0 0 0" xyz="0 0.013394444444444445 0"/>
    <axis xyz="0 0 1"/>
    <limit effort="1000.0" lower="-1e+16" upper="1e+16" velocity="0.5"/>
    <dynamics damping="0.1" friction="0"/>
  </joint>
  <joint name="FixJoint_Left" type="revolute">
    <parent link="rod_link_left"/>
    <origin rpy="-1.5708 0 0" xyz="0 0 -0.35"/>
    <child link="flexible_link_left_1"/>
    <axis xyz="0 0 1"/>
    <limit effort="10" lower="0.0" upper="0.0" velocity="1"/>
  </joint>
  <joint name="FixJoint_Right" type="revolute">
    <parent link="rod_link_right"/>
    <origin rpy="-1.5708 0 0" xyz="0 0 -0.35"/>
    <child link="flexible_link_right_1"/>
    <axis xyz="0 0 1"/>
    <limit effort="10" lower="0.0" upper="0.0" velocity="1"/>
  </joint>
  <gazebo>
    <plugin filename="gz-sim-joint-controller-system" name="gz::sim::systems::JointController">
      <joint_name>servo_move_right</joint_name>
      <initial_velocity>0.0</initial_velocity>
      <topic>joint_right_vel</topic>
    </plugin>
    <plugin filename="gz-sim-joint-controller-system" name="gz::sim::systems::JointController">
      <joint_name>servo_move_left</joint_name>
      <initial_velocity>0.0</initial_velocity>
      <topic>joint_left_vel</topic>
    </plugin>
    <plugin filename="SoftFinger" name="gz::sim::systems::SoftFinger">
      <joint_name>flex_joint_right_from_1_to_2</joint_name>
      <joint_name>flex_joint_right_from_2_to_3</joint_name>
      <joint_name>flex_joint_right_from_3_to_4</joint_name>
      <joint_name>flex_joint_right_from_4_to_5</joint_name>
      <joint_name>flex_joint_right_from_5_to_6</joint_name>
      <joint_name>flex_joint_right_from_6_to_7</joint_name>
      <joint_name>flex_joint_right_from_7_to_8</joint_name>
      <joint_name>flex_joint_right_from_8_to_9</joint_name>
      <joint_name>flex_joint_right_from_9_to_10</joint_name>
      <joint_name>flex_joint_right_from_10_to_11</joint_name>
      <joint_name>flex_joint_right_from_11_to_12</joint_name>
      <joint_name>flex_joint_right_from_12_to_13</joint_name>
      <joint_name>flex_joint_right_from_13_to_14</joint_name>
      <joint_name>flex_joint_right_from_14_to_15</joint_name>
      <joint_name>flex_joint_right_from_15_to_16</joint_name>
      <joint_name>flex_joint_right_from_16_to_17</joint_name>
      <joint_name>flex_joint_right_from_17_to_18</joint_name>
      <topic>bend_r</topic>
      <steps>18</steps>
    </plugin>
    <plugin filename="SoftFinger" name="gz::sim::systems::SoftFinger">
      <joint_name>flex_joint_left_from_1_to_2</joint_name>
      <joint_name>flex_joint_left_from_2_to_3</joint_name>
      <joint_name>flex_joint_left_from_3_to_4</joint_name>
      <joint_name>flex_joint_left_from_4_to_5</joint_name>
      <joint_name>flex_joint_left_from_5_to_6</joint_name>
      <joint_name>flex_joint_left_from_6_to_7</joint_name>
      <joint_name>flex_joint_left_from_7_to_8</joint_name>
      <joint_name>flex_joint_left_from_8_to_9</joint_name>
      <joint_name>flex_joint_left_from_9_to_10</joint_name>
      <joint_name>flex_joint_left_from_10_to_11</joint_name>
      <joint_name>flex_joint_left_from_11_to_12</joint_name>
      <joint_name>flex_joint_left_from_12_to_13</joint_name>
      <joint_name>flex_joint_left_from_13_to_14</joint_name>
      <joint_name>flex_joint_left_from_14_to_15</joint_name>
      <joint_name>flex_joint_left_from_15_to_16</joint_name>
      <joint_name>flex_joint_left_from_16_to_17</joint_name>
      <joint_name>flex_joint_left_from_17_to_18</joint_name>
      <topic>bend_l</topic>
      <steps>18</steps>
    </plugin>
  </gazebo>
  <link name="base_link">
    <collision>
      <origin rpy="0 0 0" xyz="0 0 0"/>
      <geometry>
        <box size="0.2 0.2 0.05"/>
      </geometry>
    </collision>
    <visual>
      <origin rpy="0 0 0" xyz="0 0 0"/>
      <geometry>
        <mesh filename="meshes\Holybro_No_Legs.dae"/>
      </geometry>
      <material name="darkgray">
        <color rgba="0.2 0.2 0.2 1"/>
      </material>
    </visual>
    <inertial>
      <mass value="2.0"/>
      <inertia ixx="0.0208" ixy="0.0" ixz="0.0" iyy="0.0208" iyz="0.0" izz="0.0408"/>
    </inertial>
  </link>
  <link name="fixed_base">
    <inertial>
      <origin rpy="0 0 0" xyz="0 0 -0.060875"/>
      <mass value="0.2"/>
      <inertia ixx="0.00090045" ixy="0" ixz="0" iyy="0.000302155" iyz="0" izz="0.0007085"/>
    </inertial>
    <collision>
      <origin rpy="0 0 0" xyz="0 0 -0.060875"/>
      <geometry>
        <box size="0.1175 0.198 0.12175"/>
      </geometry>
    </collision>
    <visual>
      <geometry>
        <mesh filename="meshes\DroneArmsBase.stl"/>
      </geometry>
      <material name="darkgray">
        <color rgba="0.2 0.2 0.8 1"/>
      </material>
    </visual>
  </link>
  <joint name="fix_arms_to_drone" type="revolute">
    <parent link="base_link"/>
    <origin rpy="0 0 3.1416" xyz="0 0 -0.016"/>
    <child link="fixed_base"/>
    <limit effort="100" lower="0" upper="0" velocity="1"/>
  </joint>
  <gazebo reference="base_link">
    <sensor name="air_pressure_sensor" type="air_pressure">
      <always_on>1</always_on>
      <update_rate>50</update_rate>
      <air_pressure>
        <pressure>
          <noise type="gaussian">
            <mean>0</mean>
            <stddev>0.01</stddev>
          </noise>
        </pressure>
      </air_pressure>
    </sensor>
    <sensor name="imu_sensor" type="imu">
      <always_on>1</always_on>
      <update_rate>1000</update_rate>
      <imu>
        <angular_velocity>
          <x>
            <noise type="gaussian">
              <mean>0</mean>
              <stddev>0.0001</stddev>
              <dynamic_bias_stddev>0</dynamic_bias_stddev>
              <dynamic_bias_correlation_time>1000</dynamic_bias_correlation_time>
            </noise>
          </x>
          <y>
            <noise type="gaussian">
              <mean>0</mean>
              <stddev>0.0001</stddev>
              <dynamic_bias_stddev>0</dynamic_bias_stddev>
              <dynamic_bias_correlation_time>1000</dynamic_bias_correlation_time>
            </noise>
          </y>
          <z>
            <noise type="gaussian">
              <mean>0</mean>
              <stddev>0.0001</stddev>
              <dynamic_bias_stddev>0</dynamic_bias_stddev>
              <dynamic_bias_correlation_time>1000</dynamic_bias_correlation_time>
            </noise>
          </z>
        </angular_velocity>
        <linear_acceleration>
          <x>
            <noise type="gaussian">
              <mean>0</mean>
              <stddev>0.0001</stddev>
              <dynamic_bias_stddev>0</dynamic_bias_stddev>
              <dynamic_bias_correlation_time>300</dynamic_bias_correlation_time>
            </noise>
          </x>
          <y>
            <noise type="gaussian">
              <mean>0</mean>
              <stddev>0.0001</stddev>
              <dynamic_bias_stddev>0</dynamic_bias_stddev>
              <dynamic_bias_correlation_time>300</dynamic_bias_correlation_time>
            </noise>
          </y>
          <z>
            <noise type="gaussian">
              <mean>0</mean>
              <stddev>0.0001</stddev>
              <dynamic_bias_stddev>0</dynamic_bias_stddev>
              <dynamic_bias_correlation_time>300</dynamic_bias_correlation_time>
            </noise>
          </z>
        </linear_acceleration>
      </imu>
    </sensor>
    <sensor name="navsat_sensor" type="navsat">
      <always_on>1</always_on>
      <update_rate>100</update_rate>
    </sensor>
  </gazebo>
  <gazebo>
    <link name="rotor_0">
      <gravity>true</gravity>
      <self_collide>false</self_collide>
      <velocity_decay/>
      <pose>0.175 -0.175 0.03 0 0 0</pose>
      <inertial>
        <mass>0.016076923076923075</mass>
        <inertia>
          <ixx>3.8464910483993325e-07</ixx>
          <iyy>2.6115851691700804e-05</iyy>
          <izz>2.649858234714004e-05</izz>
        </inertia>
      </inertial>
      <visual name="rotor_0_visual">
        <pose>0 0 0 0 0 0</pose>
        <geometry>
          <mesh>
            <scale>0.72 0.72 0.8461538461538461</scale>
            <uri>meshes\centered_prop_ccw.stl</uri>
          </mesh>
        </geometry>
        <material>
          <script>
            <name>Gazebo/Blue</name>
            <uri>file://media/materials/scripts/gazebo.material</uri>
          </script>
        </material>
      </visual>
      <collision name="rotor_0_collision">
        <pose>0 0 0 0 0 0 </pose>
        <geometry>
          <box>
            <size>0.2792307692307692 0.016923076923076923 0.0008461538461538462</size>
          </box>
        </geometry>
        <surface>
          <contact>
            <ode>
              <min_depth>0.001</min_depth>
              <max_vel>0</max_vel>
            </ode>
          </contact>
          <friction>
            <ode/>
          </friction>
        </surface>
      </collision>
    </link>
    <joint name="rotor_0_joint" type="revolute">
      <parent>base_link</parent>
      <child>rotor_0</child>
      <axis>
        <xyz>0 0 1</xyz>
        <limit>
          <lower>-1e+16</lower>
          <upper>1e+16</upper>
        </limit>
        <dynamics>
          <spring_reference>0</spring_reference>
          <spring_stiffness>0</spring_stiffness>
        </dynamics>
      </axis>
    </joint>
    <plugin filename="gz-sim-multicopter-motor-model-system" name="gz::sim::systems::MulticopterMotorModel">
      <jointName>rotor_0_joint</jointName>
      <linkName>rotor_0</linkName>
      <turningDirection>ccw</turningDirection>
      <timeConstantUp>0.0125</timeConstantUp>
      <timeConstantDown>0.025</timeConstantDown>
      <maxRotVelocity>1000.0</maxRotVelocity>
      <motorConstant>3.419432e-05</motorConstant>
      <momentConstant>0.016</momentConstant>
      <commandSubTopic>command/motor_speed</commandSubTopic>
      <motorNumber>0</motorNumber>
      <rotorDragCoefficient>8.06428e-05</rotorDragCoefficient>
      <rollingMomentCoefficient>1e-06</rollingMomentCoefficient>
      <rotorVelocitySlowdownSim>10</rotorVelocitySlowdownSim>
      <motorType>velocity</motorType>
    </plugin>
  </gazebo>
  <gazebo>
    <link name="rotor_1">
      <gravity>true</gravity>
      <self_collide>false</self_collide>
      <velocity_decay/>
      <pose>-0.175 0.175 0.03 0 0 0</pose>
      <inertial>
        <mass>0.016076923076923075</mass>
        <inertia>
          <ixx>3.8464910483993325e-07</ixx>
          <iyy>2.6115851691700804e-05</iyy>
          <izz>2.649858234714004e-05</izz>
        </inertia>
      </inertial>
      <visual name="rotor_1_visual">
        <pose>0 0 0 0 0 0</pose>
        <geometry>
          <mesh>
            <scale>0.72 0.72 0.8461538461538461</scale>
            <uri>meshes\centered_prop_ccw.stl</uri>
          </mesh>
        </geometry>
        <material>
          <script>
            <name>Gazebo/Blue</name>
            <uri>file://media/materials/scripts/gazebo.material</uri>
          </script>
        </material>
      </visual>
      <collision name="rotor_1_collision">
        <pose>0 0 0 0 0 0 </pose>
        <geometry>
          <box>
            <size>0.2792307692307692 0.016923076923076923 0.0008461538461538462</size>
          </box>
        </geometry>
        <surface>
          <contact>
            <ode>
              <min_depth>0.001</min_depth>
              <max_vel>0</max_vel>
            </ode>
          </contact>
          <friction>
            <ode/>
          </friction>
        </surface>
      </collision>
    </link>
    <joint name="rotor_1_joint" type="revolute">
      <parent>base_link</parent>
      <child>rotor_1</child>
      <axis>
        <xyz>0 0 1</xyz>
        <limit>
          <lower>-1e+16</lower>
          <upper>1e+16</upper>
        </limit>
        <dynamics>
          <spring_reference>0</spring_reference>
          <spring_stiffness>0</spring_stiffness>
        </dynamics>
      </axis>
    </joint>
    <plugin filename="gz-sim-multicopter-motor-model-system" name="gz::sim::systems::MulticopterMotorModel">
      <jointName>rotor_1_joint</jointName>
      <linkName>rotor_1</linkName>
      <turningDirection>ccw</turningDirection>
      <timeConstantUp>0.0125</timeConstantUp>
      <timeConstantDown>0.025</timeConstantDown>
      <maxRotVelocity>1000.0</maxRotVelocity>
      <motorConstant>3.419432e-05</motorConstant>
      <momentConstant>0.016</momentConstant>
      <commandSubTopic>command/motor_speed</commandSubTopic>
      <motorNumber>1</motorNumber>
      <rotorDragCoefficient>8.06428e-05</rotorDragCoefficient>
      <rollingMomentCoefficient>1e-06</rollingMomentCoefficient>
      <rotorVelocitySlowdownSim>10</rotorVelocitySlowdownSim>
      <motorType>velocity</motorType>
    </plugin>
  </gazebo>
  <gazebo>
    <link name="rotor_2">
      <gravity>true</gravity>
      <self_collide>false</self_collide>
      <velocity_decay/>
      <pose>0.175 0.175 0.03 0 0 0</pose>
      <inertial>
        <mass>0.016076923076923075</mass>
        <inertia>
          <ixx>3.8464910483993325e-07</ixx>
          <iyy>2.6115851691700804e-05</iyy>
          <izz>2.649858234714004e-05</izz>
        </inertia>
      </inertial>
      <visual name="rotor_2_visual">
        <pose>0 0 0 0 0 0</pose>
        <geometry>
          <mesh>
            <scale>0.72 0.72 0.8461538461538461</scale>
            <uri>meshes\centered_prop_ccw.stl</uri>
          </mesh>
        </geometry>
        <material>
          <script>
            <name>Gazebo/Red</name>
            <uri>file://media/materials/scripts/gazebo.material</uri>
          </script>
        </material>
      </visual>
      <collision name="rotor_2_collision">
        <pose>0 0 0 0 0 0 </pose>
        <geometry>
          <box>
            <size>0.2792307692307692 0.016923076923076923 0.0008461538461538462</size>
          </box>
        </geometry>
        <surface>
          <contact>
            <ode>
              <min_depth>0.001</min_depth>
              <max_vel>0</max_vel>
            </ode>
          </contact>
          <friction>
            <ode/>
          </friction>
        </surface>
      </collision>
    </link>
    <joint name="rotor_2_joint" type="revolute">
      <parent>base_link</parent>
      <child>rotor_2</child>
      <axis>
        <xyz>0 0 1</xyz>
        <limit>
          <lower>-1e+16</lower>
          <upper>1e+16</upper>
        </limit>
        <dynamics>
          <spring_reference>0</spring_reference>
          <spring_stiffness>0</spring_stiffness>
        </dynamics>
      </axis>
    </joint>
    <plugin filename="gz-sim-multicopter-motor-model-system" name="gz::sim::systems::MulticopterMotorModel">
      <jointName>rotor_2_joint</jointName>
      <linkName>rotor_2</linkName>
      <turningDirection>cw</turningDirection>
      <timeConstantUp>0.0125</timeConstantUp>
      <timeConstantDown>0.025</timeConstantDown>
      <maxRotVelocity>1000.0</maxRotVelocity>
      <motorConstant>3.419432e-05</motorConstant>
      <momentConstant>0.016</momentConstant>
      <commandSubTopic>command/motor_speed</commandSubTopic>
      <motorNumber>2</motorNumber>
      <rotorDragCoefficient>8.06428e-05</rotorDragCoefficient>
      <rollingMomentCoefficient>1e-06</rollingMomentCoefficient>
      <rotorVelocitySlowdownSim>10</rotorVelocitySlowdownSim>
      <motorType>velocity</motorType>
    </plugin>
  </gazebo>
  <gazebo>
    <link name="rotor_3">
      <gravity>true</gravity>
      <self_collide>false</self_collide>
      <velocity_decay/>
      <pose>-0.175 -0.175 0.03 0 0 0</pose>
      <inertial>
        <mass>0.016076923076923075</mass>
        <inertia>
          <ixx>3.8464910483993325e-07</ixx>
          <iyy>2.6115851691700804e-05</iyy>
          <izz>2.649858234714004e-05</izz>
        </inertia>
      </inertial>
      <visual name="rotor_3_visual">
        <pose>0 0 0 0 0 0</pose>
        <geometry>
          <mesh>
            <scale>0.72 0.72 0.8461538461538461</scale>
            <uri>meshes\centered_prop_ccw.stl</uri>
          </mesh>
        </geometry>
        <material>
          <script>
            <name>Gazebo/Red</name>
            <uri>file://media/materials/scripts/gazebo.material</uri>
          </script>
        </material>
      </visual>
      <collision name="rotor_3_collision">
        <pose>0 0 0 0 0 0 </pose>
        <geometry>
          <box>
            <size>0.2792307692307692 0.016923076923076923 0.0008461538461538462</size>
          </box>
        </geometry>
        <surface>
          <contact>
            <ode>
              <min_depth>0.001</min_depth>
              <max_vel>0</max_vel>
            </ode>
          </contact>
          <friction>
            <ode/>
          </friction>
        </surface>
      </collision>
    </link>
    <joint name="rotor_3_joint" type="revolute">
      <parent>base_link</parent>
      <child>rotor_3</child>
      <axis>
        <xyz>0 0 1</xyz>
        <limit>
          <lower>-1e+16</lower>
          <upper>1e+16</upper>
        </limit>
        <dynamics>
          <spring_reference>0</spring_reference>
          <spring_stiffness>0</spring_stiffness>
        </dynamics>
      </axis>
    </joint>
    <plugin filename="gz-sim-multicopter-motor-model-system" name="gz::sim::systems::MulticopterMotorModel">
      <jointName>rotor_3_joint</jointName>
      <linkName>rotor_3</linkName>
      <turningDirection>cw</turningDirection>
      <timeConstantUp>0.0125</timeConstantUp>
      <timeConstantDown>0.025</timeConstantDown>
      <maxRotVelocity>1000.0</maxRotVelocity>
      <motorConstant>3.419432e-05</motorConstant>
      <momentConstant>0.016</momentConstant>
      <commandSubTopic>command/motor_speed</commandSubTopic>
      <motorNumber>3</motorNumber>
      <rotorDragCoefficient>8.06428e-05</rotorDragCoefficient>
      <rollingMomentCoefficient>1e-06</rollingMomentCoefficient>
      <rotorVelocitySlowdownSim>10</rotorVelocitySlowdownSim>
      <motorType>velocity</motorType>
    </plugin>
  </gazebo>
  <gazebo>
    <plugin filename="gz-sim-odometry-publisher-system" name="gz::sim::systems::OdometryPublisher">
      <odom_frame>odom</odom_frame>
      <robot_base_frame>base_link</robot_base_frame>
      <dimensions>3</dimensions>
    </plugin>
    <plugin filename="gz-sim-joint-state-publisher-system" name="gz::sim::systems::JointStatePublisher">
      <joint_name>servo_move_right</joint_name>
      <joint_name>servo_move_left</joint_name>
    </plugin>
    <plugin filename="gz-sim-joint-state-publisher-system" name="gz::sim::systems::JointStatePublisher">
      <joint_name>servo_move_right</joint_name>
      <joint_name>servo_move_left</joint_name>
      <!-- right -->
      <joint_name>flex_joint_right_from_1_to_2</joint_name>
      <joint_name>flex_joint_right_from_2_to_3</joint_name>
      <joint_name>flex_joint_right_from_3_to_4</joint_name>
      <joint_name>flex_joint_right_from_4_to_5</joint_name>
      <joint_name>flex_joint_right_from_5_to_6</joint_name>
      <joint_name>flex_joint_right_from_6_to_7</joint_name>
      <joint_name>flex_joint_right_from_7_to_8</joint_name>
      <joint_name>flex_joint_right_from_8_to_9</joint_name>
      <joint_name>flex_joint_right_from_9_to_10</joint_name>
      <joint_name>flex_joint_right_from_10_to_11</joint_name>
      <joint_name>flex_joint_right_from_11_to_12</joint_name>
      <joint_name>flex_joint_right_from_12_to_13</joint_name>
      <joint_name>flex_joint_right_from_13_to_14</joint_name>
      <joint_name>flex_joint_right_from_14_to_15</joint_name>
      <joint_name>flex_joint_right_from_15_to_16</joint_name>
      <joint_name>flex_joint_right_from_16_to_17</joint_name>
      <joint_name>flex_joint_right_from_17_to_18</joint_name>
      <!-- left -->
      <joint_name>flex_joint_left_from_1_to_2</joint_name>
      <joint_name>flex_joint_left_from_2_to_3</joint_name>
      <joint_name>flex_joint_left_from_3_to_4</joint_name>
      <joint_name>flex_joint_left_from_4_to_5</joint_name>
      <joint_name>flex_joint_left_from_5_to_6</joint_name>
      <joint_name>flex_joint_left_from_6_to_7</joint_name>
      <joint_name>flex_joint_left_from_7_to_8</joint_name>
      <joint_name>flex_joint_left_from_8_to_9</joint_name>
      <joint_name>flex_joint_left_from_9_to_10</joint_name>
      <joint_name>flex_joint_left_from_10_to_11</joint_name>
      <joint_name>flex_joint_left_from_11_to_12</joint_name>
      <joint_name>flex_joint_left_from_12_to_13</joint_name>
      <joint_name>flex_joint_left_from_13_to_14</joint_name>
      <joint_name>flex_joint_left_from_14_to_15</joint_name>
      <joint_name>flex_joint_left_from_15_to_16</joint_name>
      <joint_name>flex_joint_left_from_16_to_17</joint_name>
      <joint_name>flex_joint_left_from_17_to_18</joint_name>
      <topic>/complete_joint_states</topic>
      <joint_state_publisher_name>complete_joint_state_publisher</joint_state_publisher_name>
    </plugin>
    <plugin filename="MocapPub" name="gz::sim::systems::MocapPub">
    </plugin>
  </gazebo>
</robot>
